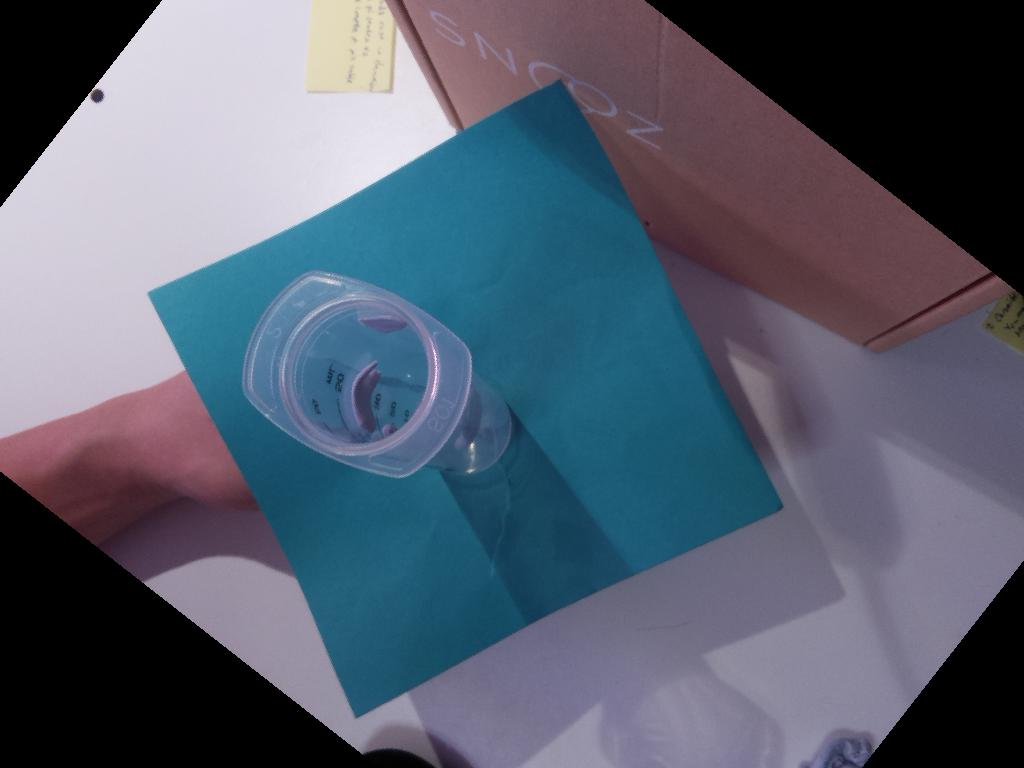dirty: (243, 267, 472, 478)
